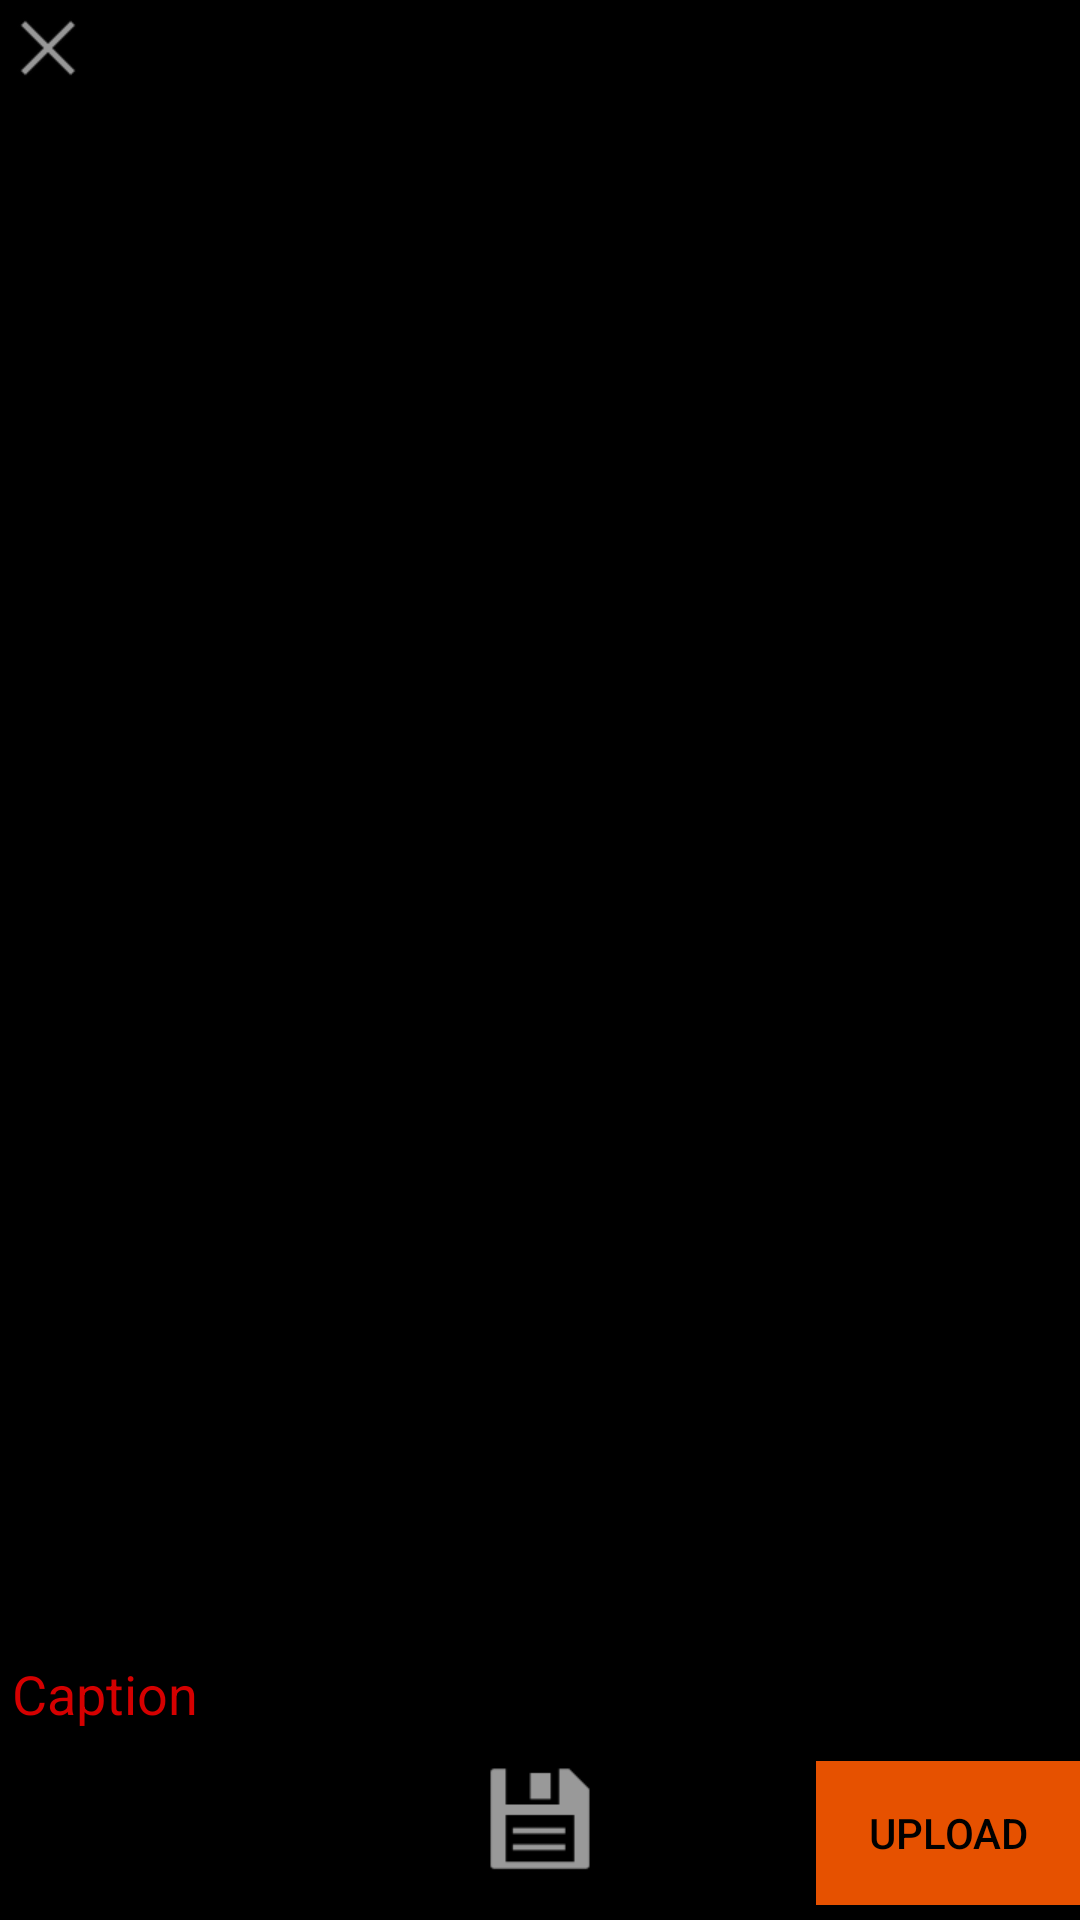

Locate icon controls on the screen. Image size 1080 × 1920, boxes as box=[x1, y1, x2, y2].
close clear cancel: box=[21, 21, 75, 75]
save: box=[490, 1768, 590, 1869]
